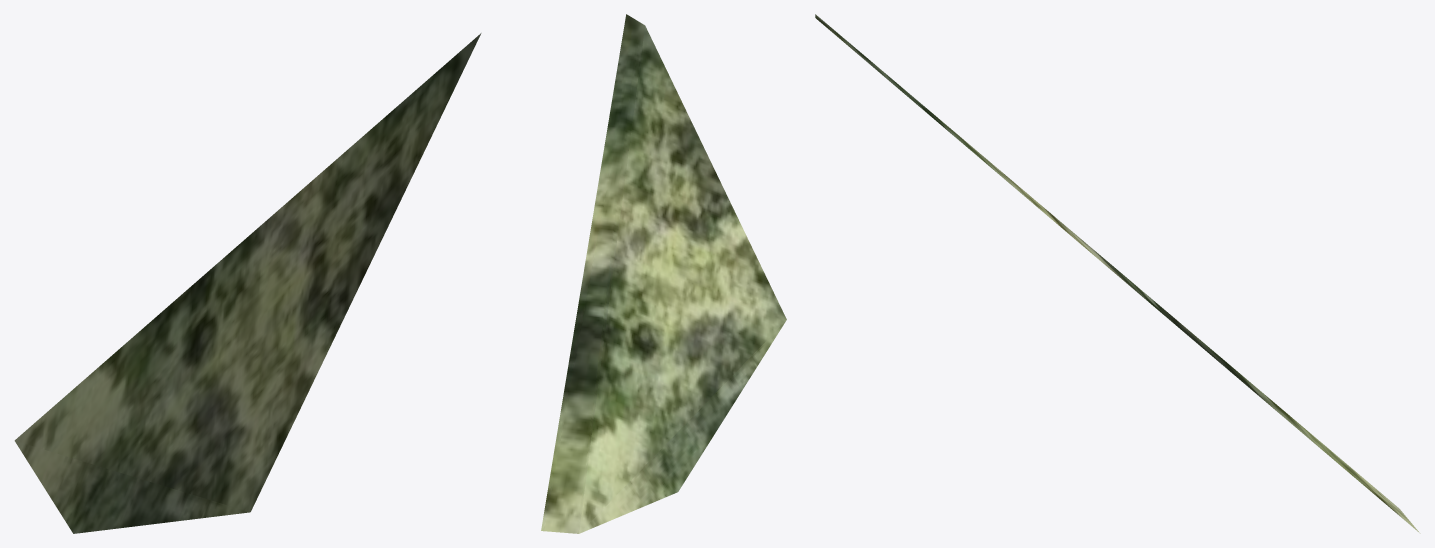
3 views of the same model, side by side, from view 1: azimuth 30°, elevation 25°; view 2: azimuth 150°, elevation 25°; view 3: azimuth 270°, elevation 25° (orthographic). The views are drawn at different scales.
Bounding box in the file's own units: 1.1 × 2.35 × 2.16.
1 material, 1 textured.
